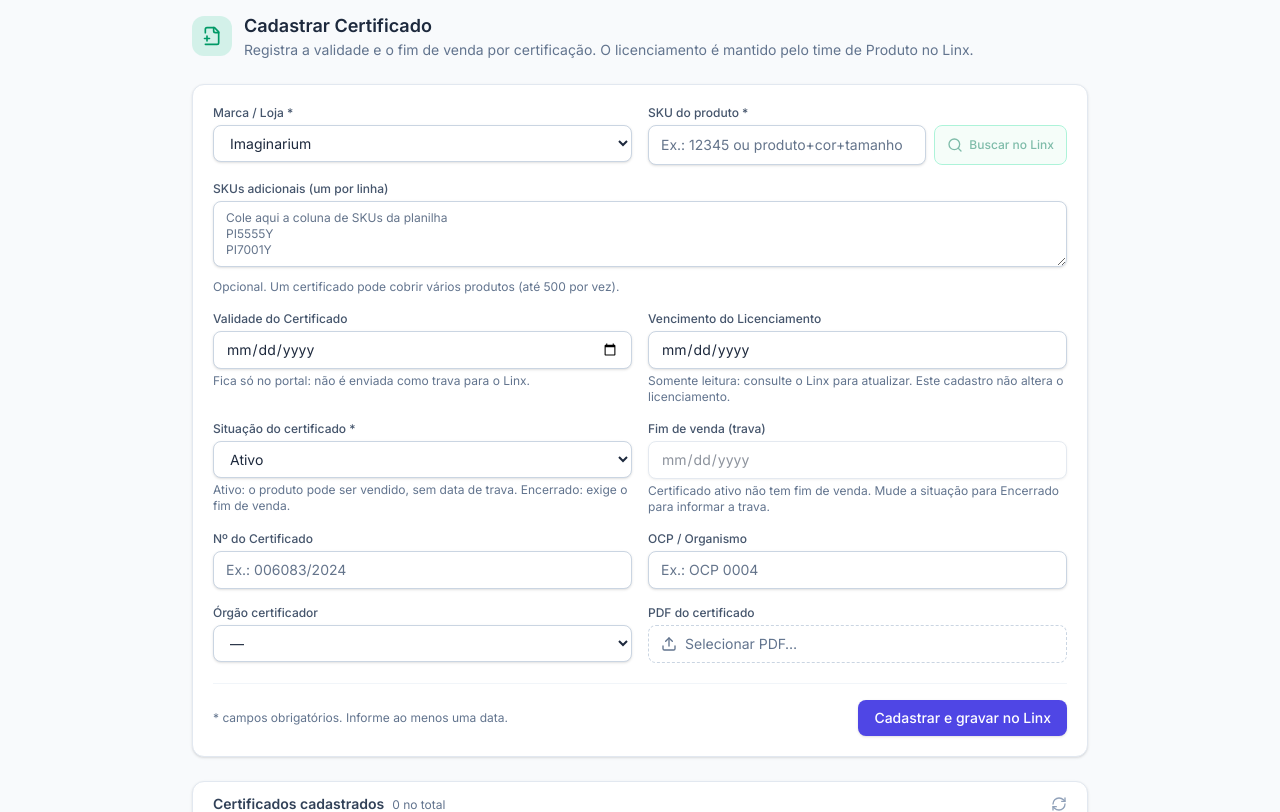
Test: CertCadastroPage Linx lookup › discards a Linx response when the SKU changes while the lookup is pending
Type "100400496" into the field labelled "SKU do produto *" at x=787, y=145, box left=648, top=125, right=926, bottom=165
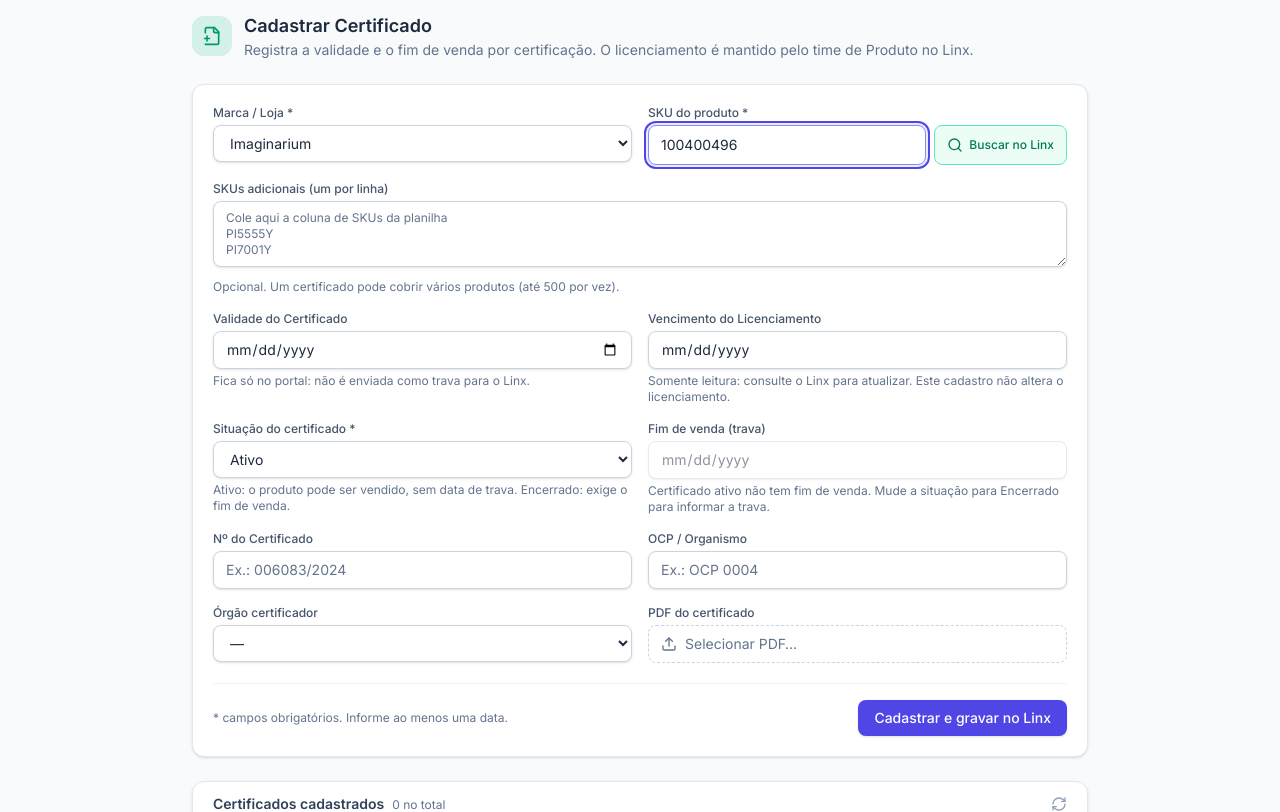
Click the button "Buscar no Linx" at x=1001, y=145, box left=934, top=125, right=1067, bottom=165
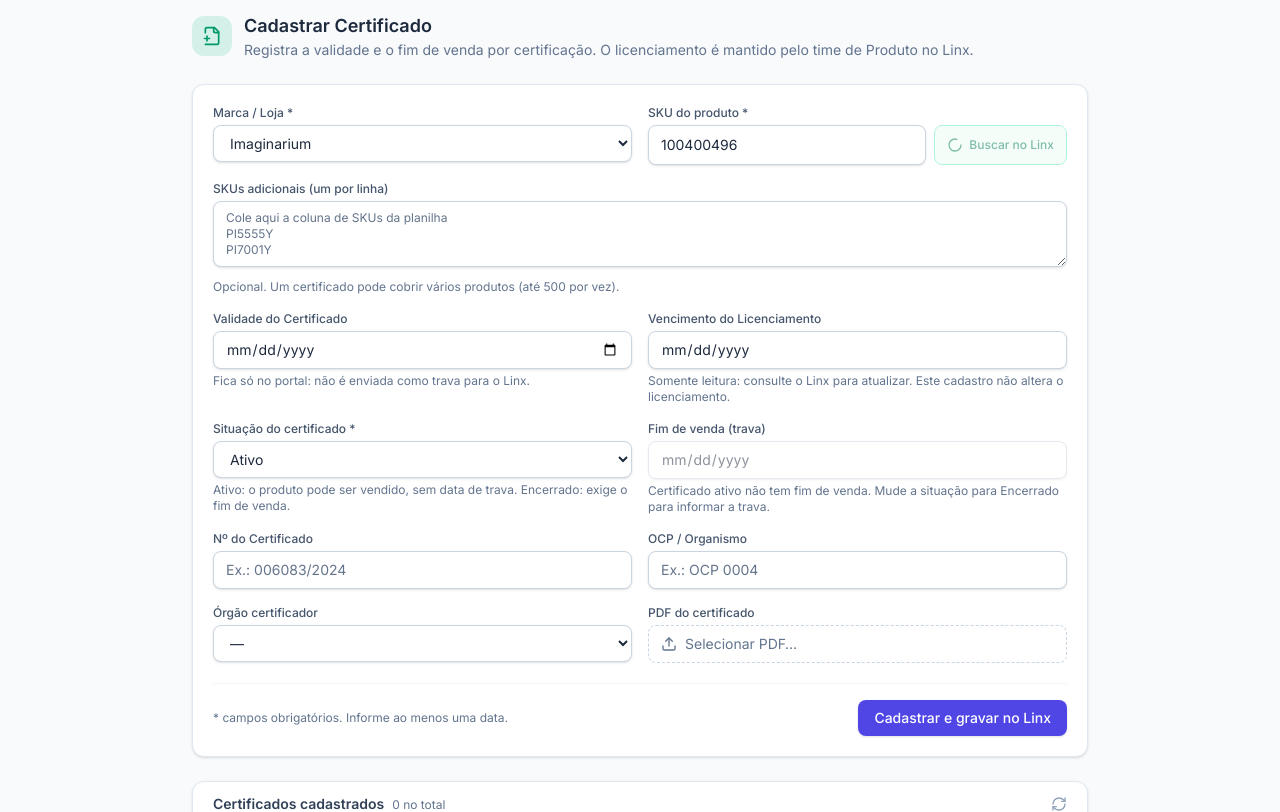
Replace the text in the field labelled "SKU do produto *" with "NOVO-SKU" at x=787, y=145, box left=648, top=125, right=926, bottom=165
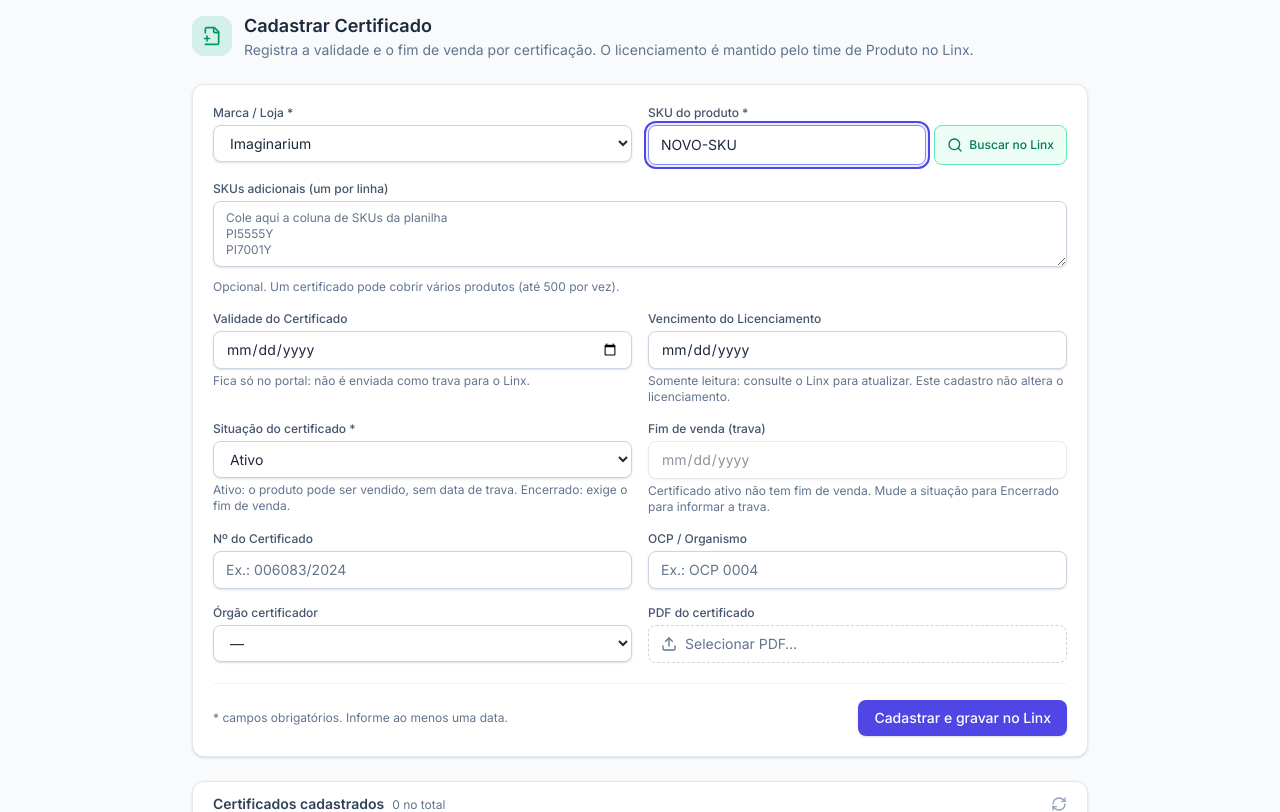
Expected: the date field labelled "Validade do Certificado" is empty, left=213, top=331, right=632, bottom=369
Expected: the button "Buscar no Linx" is enabled, left=934, top=125, right=1067, bottom=165
